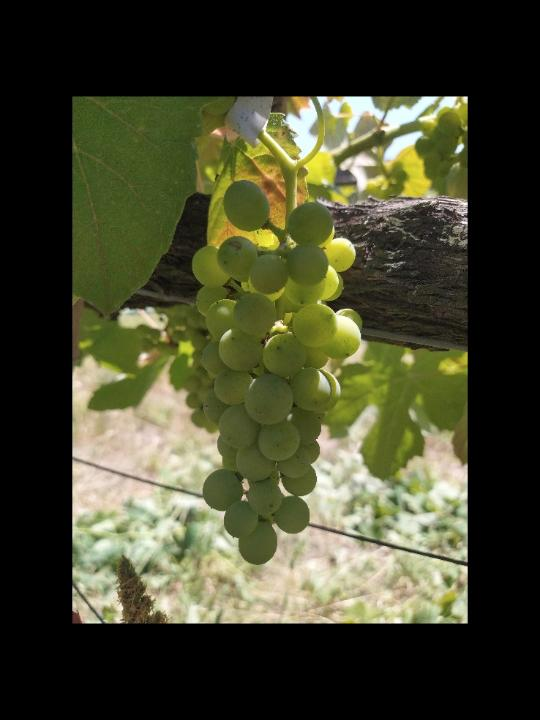grape: (192, 180, 365, 566)
